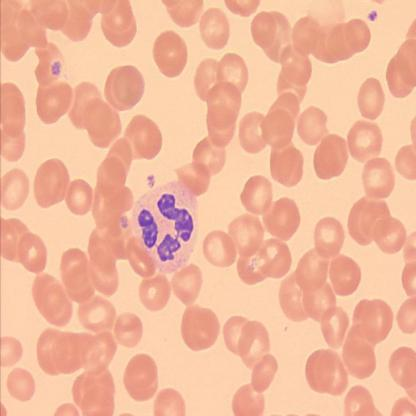Segmented neutrophil: (130, 180, 201, 274)
